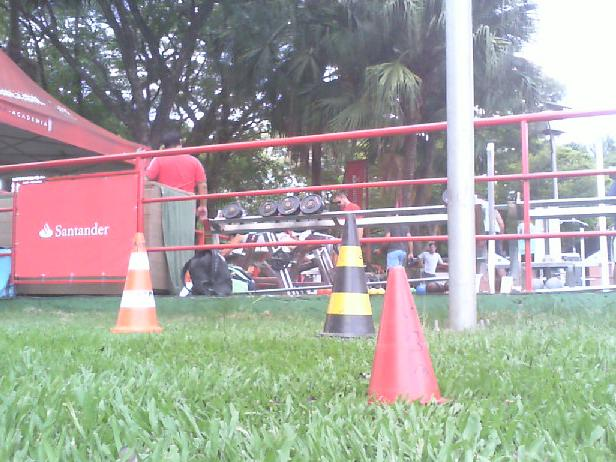0 cone: (367, 265, 453, 404), (314, 213, 379, 338), (110, 231, 164, 332)
